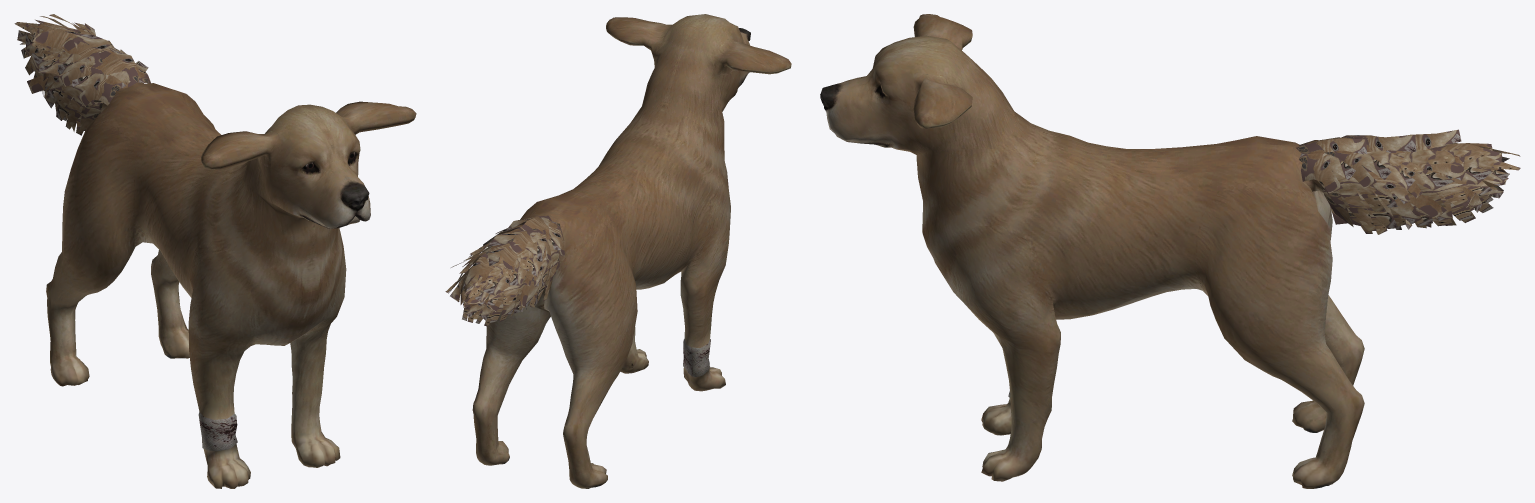
The model's file is dog.obj.dae.
3 views of the same model, side by side, from view 1: azimuth 30°, elevation 25°; view 2: azimuth 150°, elevation 25°; view 3: azimuth 270°, elevation 25° (orthographic). The views are drawn at different scales.
Visible parts, largest first — view 1: dog_obj; view 2: dog_obj; view 3: dog_obj.
Part boxes in pixels (x1=…): dog_obj: x1=14, y1=14, x2=416, y2=488; dog_obj: x1=445, y1=14, x2=791, y2=488; dog_obj: x1=820, y1=14, x2=1520, y2=488.
Bounding box in the file's own units: 50.64 × 89.46 × 138.
1 material, 1 textured.
